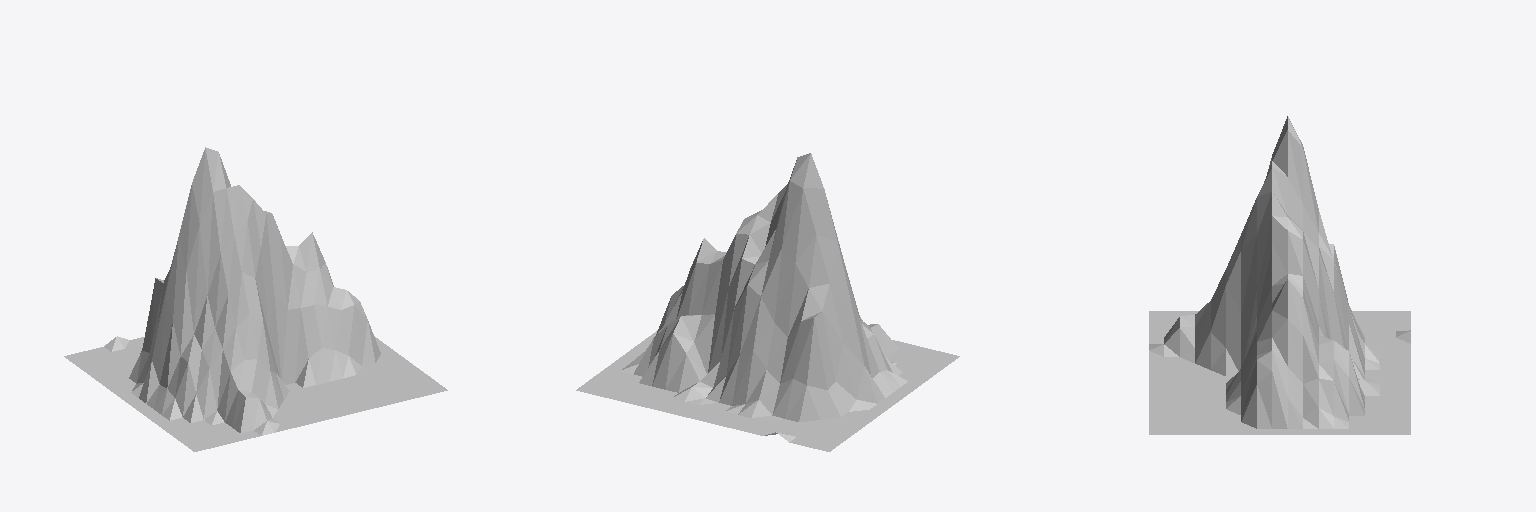
Rendered from moutains_3.obj.
3 renders of one model, left to right at view 1: azimuth 30°, elevation 25°; view 2: azimuth 150°, elevation 25°; view 3: azimuth 270°, elevation 25°, orthographic.
Parts seen in each view (by area): view 1: 平面.003; view 2: 平面.003; view 3: 平面.003.
Part boxes in pixels (left/top/right/bottom): 平面.003: left=64, top=147, right=447, bottom=451; 平面.003: left=576, top=153, right=959, bottom=451; 平面.003: left=1149, top=116, right=1410, bottom=434.
Size of the model in its own units: 0.4657 by 0.4115 by 0.4167.